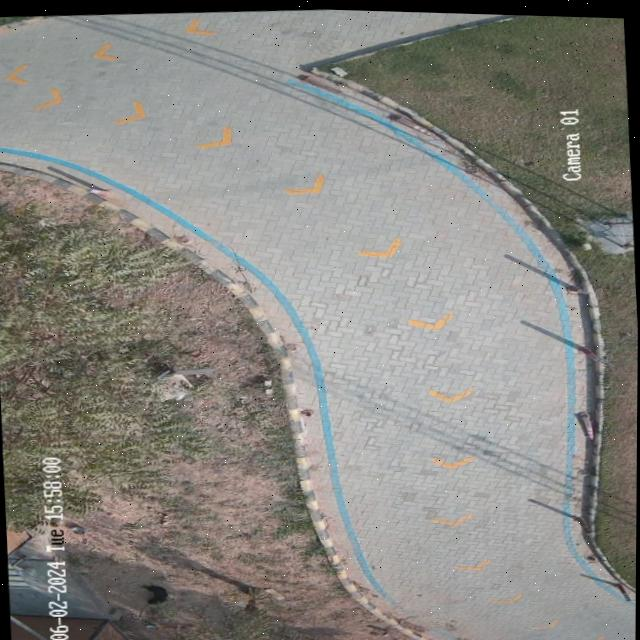No Car: (0, 7, 638, 640)
